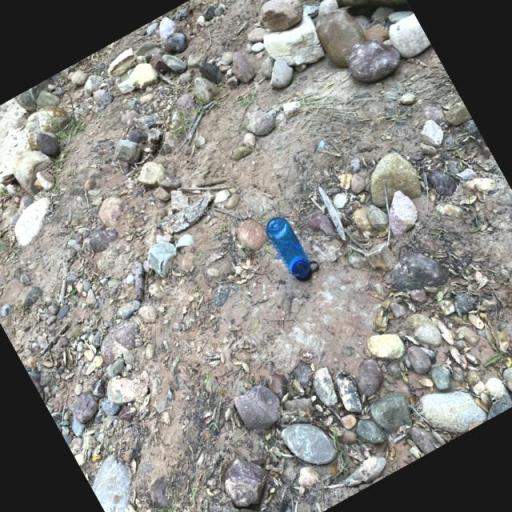bottle: (262, 209, 324, 287)
